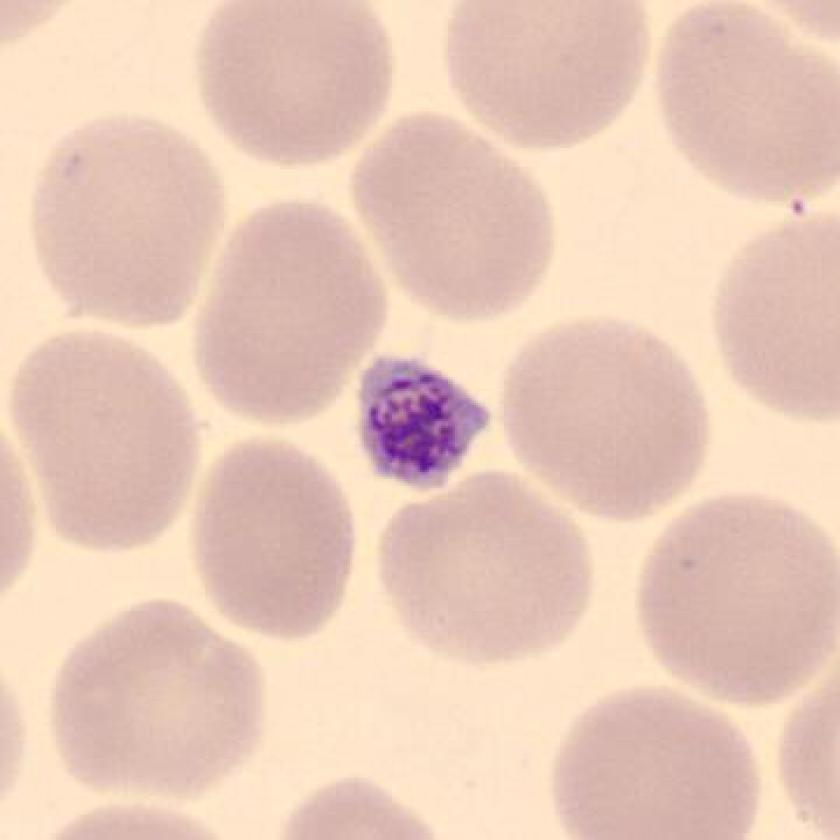platelets: (344, 348, 505, 506)
